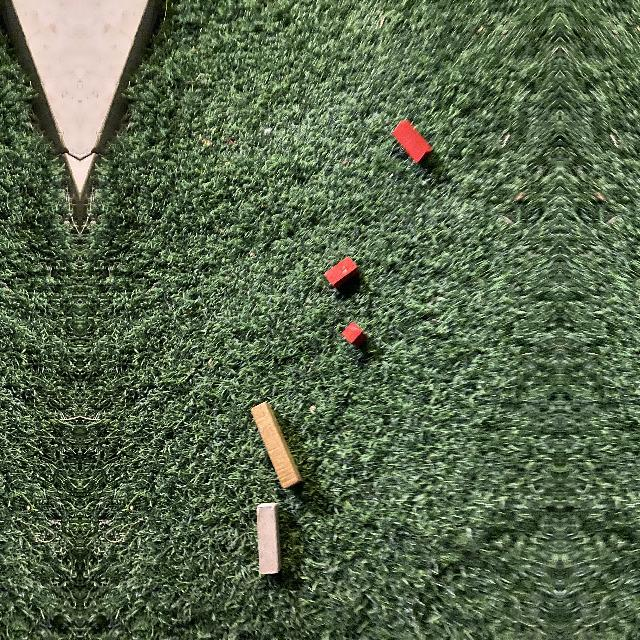block: (256, 505, 282, 578)
jenga: (249, 403, 303, 493)
red block: (392, 120, 433, 166), (324, 256, 357, 288)
red cube: (342, 324, 367, 347)
